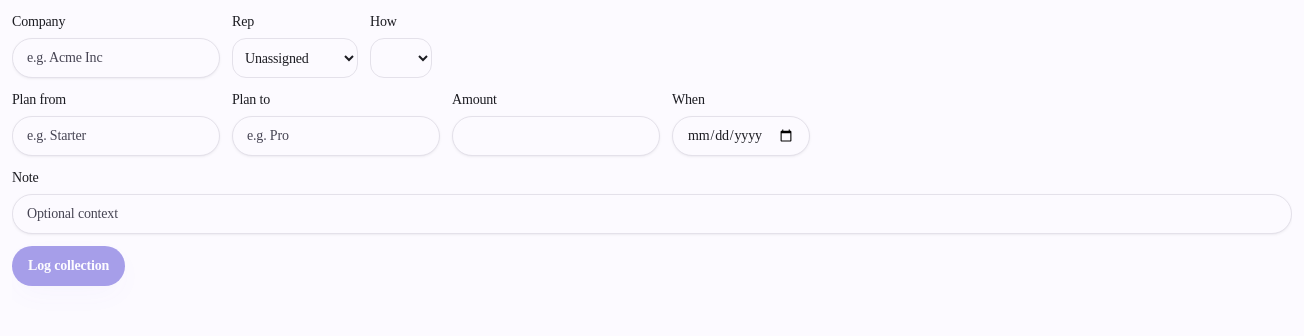
Test: CreateRepCollectionEntryForm (manual) › shows an inline error and does not refresh when the request fails
Step 1. Type "Acme Inc" into the field labelled "Company" → [116, 58], box [12,38,220,78]
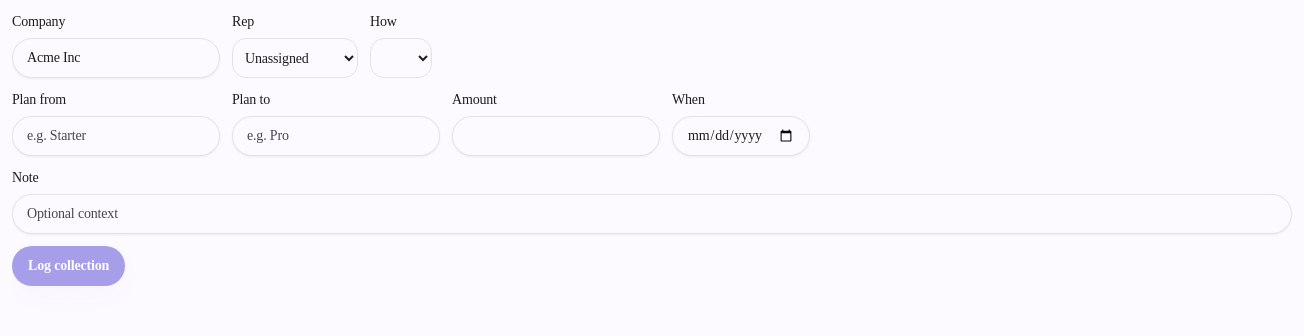
Step 2. Type "500" into the number field labelled "Amount" → [556, 136], box [452,116,660,156]
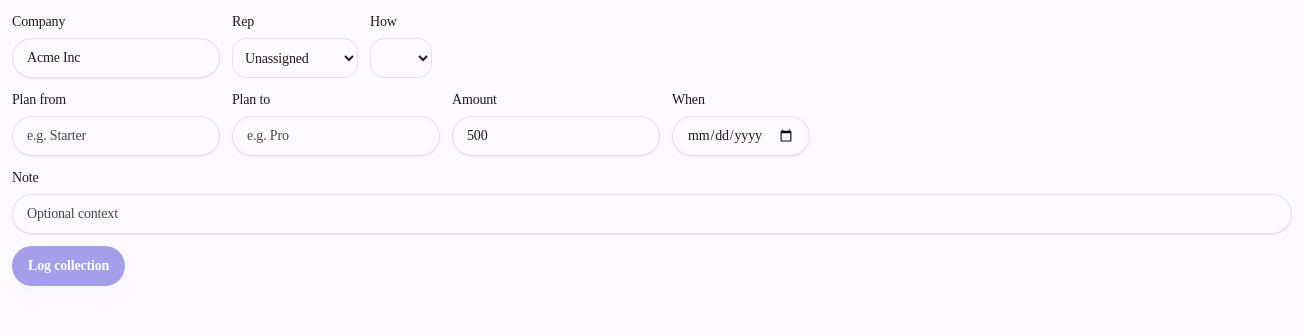
Step 3. Type "2026-08-24" into the date field labelled "When" → [741, 136], box [672,116,810,156]
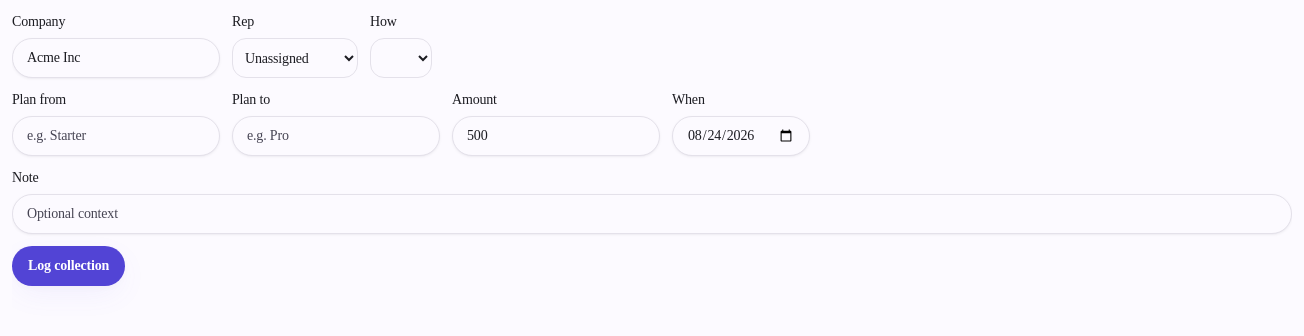
Step 4. Click the button "Log collection" → [69, 266], box [12,246,125,286]
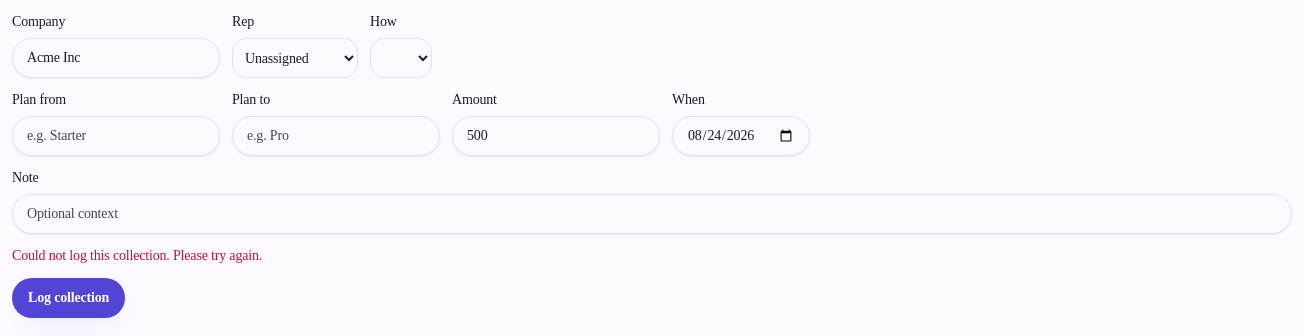
expect the message reads "Could not log this collection. Please try again.": met, box [12,248,262,263]
